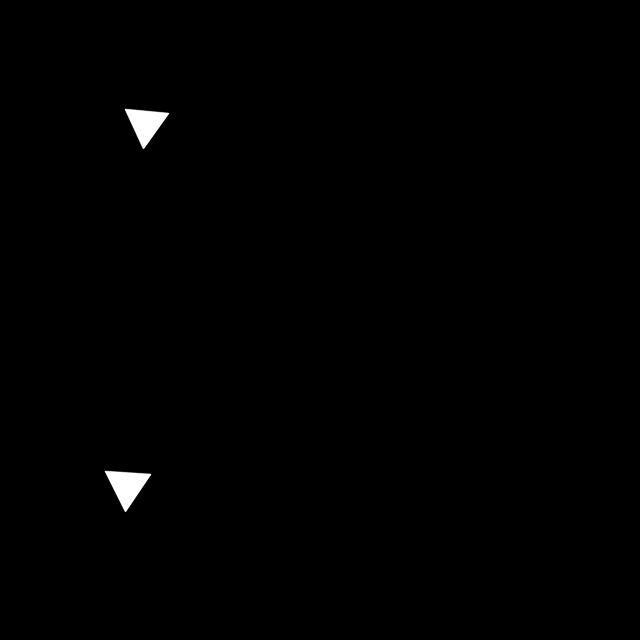Triangle: (93, 463, 159, 524), (118, 101, 176, 157)
